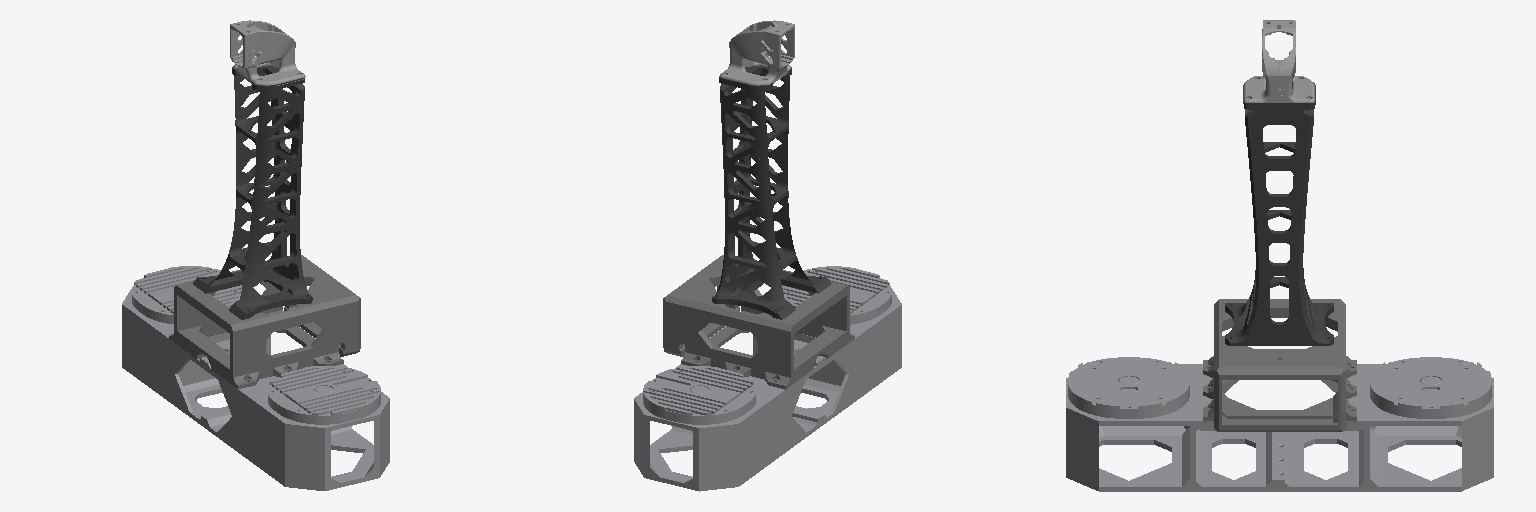
URDF robot description (urdf_xlerobot):
<?xml version="1.0" ?>
<!-- Generated using onshape-to-robot -->
<!-- Onshape https://cad.onshape.com/documents/96925cf817c1a878a85e838a/w/65e84f84222e56821484522f/e/8df6a6c93d54b1b95e807d87 -->
<robot name="urdf_xlerobot">
  <link name="base">
    <inertial>
      <origin xyz="0 0 0" rpy="0 0 0"/>
      <mass value="1e-09"/>
      <inertia ixx="1e-09" ixy="0" ixz="0" iyy="1e-09" iyz="0" izz="1e-09"/>
    </inertial>
  </link>
  <!-- Link 035armbase_step -->
  <link name="035armbase_step">
    <inertial>
      <origin xyz="0 0 0" rpy="0 0 0"/>
      <mass value="1e-09"/>
      <inertia ixx="1e-09" ixy="0" ixz="0" iyy="1e-09" iyz="0" izz="1e-09"/>
    </inertial>
    <!-- Part 035armbase_step -->
    <visual>
      <origin xyz="0.101856 -0.00509356 -0.665853" rpy="0 -0 0"/>
      <geometry>
        <mesh filename="package://assets/035armbase_step.stl"/>
      </geometry>
      <material name="035armbase_step_material">
        <color rgba="0.627451 0.627451 0.643137 1"/>
      </material>
    </visual>
    <collision>
      <origin xyz="0.101856 -0.00509356 -0.665853" rpy="0 -0 0"/>
      <geometry>
        <mesh filename="package://assets/035armbase_step.stl"/>
      </geometry>
    </collision>
    <!-- Part gimbal_base_step -->
    <visual>
      <origin xyz="0.103377 -0.00438476 -0.668057" rpy="0 -0 0"/>
      <geometry>
        <mesh filename="package://assets/gimbal_base_step.stl"/>
      </geometry>
      <material name="gimbal_base_step_material">
        <color rgba="0.627451 0.627451 0.627451 1"/>
      </material>
    </visual>
    <collision>
      <origin xyz="0.103377 -0.00438476 -0.668057" rpy="0 -0 0"/>
      <geometry>
        <mesh filename="package://assets/gimbal_base_step.stl"/>
      </geometry>
    </collision>
    <!-- Part xlerobot_0_2_9_3d_step -->
    <visual>
      <origin xyz="0.103187 -0.00463072 -0.665881" rpy="0 -0 0"/>
      <geometry>
        <mesh filename="package://assets/xlerobot_0_2_9_3d_step.stl"/>
      </geometry>
      <material name="xlerobot_0_2_9_3d_step_material">
        <color rgba="0.301961 0.301961 0.301961 1"/>
      </material>
    </visual>
    <collision>
      <origin xyz="0.103187 -0.00463072 -0.665881" rpy="0 -0 0"/>
      <geometry>
        <mesh filename="package://assets/xlerobot_0_2_9_3d_step.stl"/>
      </geometry>
    </collision>
    <!-- Part 035armbase_step_2 -->
    <visual>
      <origin xyz="0.101856 -0.00509356 -0.665853" rpy="0 -0 0"/>
      <geometry>
        <mesh filename="package://assets/035armbase_step__2.stl"/>
      </geometry>
      <material name="035armbase_step_2_material">
        <color rgba="0.627451 0.627451 0.643137 1"/>
      </material>
    </visual>
    <collision>
      <origin xyz="0.101856 -0.00509356 -0.665853" rpy="0 -0 0"/>
      <geometry>
        <mesh filename="package://assets/035armbase_step__2.stl"/>
      </geometry>
    </collision>
    <!-- Part 035armbase_step_3 -->
    <visual>
      <origin xyz="0.101856 -0.00519356 -0.665853" rpy="0 -0 0"/>
      <geometry>
        <mesh filename="package://assets/035armbase_step__3.stl"/>
      </geometry>
      <material name="035armbase_step_3_material">
        <color rgba="0.627451 0.627451 0.643137 1"/>
      </material>
    </visual>
    <collision>
      <origin xyz="0.101856 -0.00519356 -0.665853" rpy="0 -0 0"/>
      <geometry>
        <mesh filename="package://assets/035armbase_step__3.stl"/>
      </geometry>
    </collision>
    <!-- Part 035armbase_step_4 -->
    <visual>
      <origin xyz="0.101856 -0.00509356 -0.665853" rpy="0 -0 0"/>
      <geometry>
        <mesh filename="package://assets/035armbase_step__4.stl"/>
      </geometry>
      <material name="035armbase_step_4_material">
        <color rgba="0.627451 0.627451 0.643137 1"/>
      </material>
    </visual>
    <collision>
      <origin xyz="0.101856 -0.00509356 -0.665853" rpy="0 -0 0"/>
      <geometry>
        <mesh filename="package://assets/035armbase_step__4.stl"/>
      </geometry>
    </collision>
    <!-- Part xlerobot_0_2_9bas_step -->
    <visual>
      <origin xyz="0.101856 -0.00509356 -0.665853" rpy="0 -0 0"/>
      <geometry>
        <mesh filename="package://assets/xlerobot_0_2_9bas_step.stl"/>
      </geometry>
      <material name="xlerobot_0_2_9bas_step_material">
        <color rgba="0.494118 0.494118 0.494118 1"/>
      </material>
    </visual>
    <collision>
      <origin xyz="0.101856 -0.00509356 -0.665853" rpy="0 -0 0"/>
      <geometry>
        <mesh filename="package://assets/xlerobot_0_2_9bas_step.stl"/>
      </geometry>
    </collision>
  </link>
  <link name="so107_right_base">
    <inertial>
      <origin xyz="0 0 0" rpy="0 0 0"/>
      <mass value="1e-09"/>
      <inertia ixx="1e-09" ixy="0" ixz="0" iyy="1e-09" iyz="0" izz="1e-09"/>
    </inertial>
  </link>
  <link name="so107_left_base">
    <inertial>
      <origin xyz="0 0 0" rpy="0 0 0"/>
      <mass value="1e-09"/>
      <inertia ixx="1e-09" ixy="0" ixz="0" iyy="1e-09" iyz="0" izz="1e-09"/>
    </inertial>
  </link>
  <joint name="base_fixed" type="fixed">
    <origin xyz="0.0 0.0 0.0" rpy="0 0 3.14159" />
    <parent link="base" />
    <child link="035armbase_step" />
  </joint>
  <joint name="so107_left" type="fixed">
    <origin xyz="0.0253929 -0.136894 0.0803879" rpy="0 0 3.14159"/>
    <parent link="035armbase_step" />
    <child link="so107_left_base" />
  </joint>
  <joint name="so107_right" type="fixed">
    <origin xyz="0.0253929 0.136206 0.0803879" rpy="0 0 3.14159"/>
    <parent link="035armbase_step" />
    <child link="so107_right_base" />
  </joint> 
</robot>

--- Render facts (derived) ---
3 views of the same robot in one strip: view 1: azimuth 30°, elevation 25°; view 2: azimuth 150°, elevation 25°; view 3: azimuth 270°, elevation 25° (orthographic).
Model urdf_xlerobot with 4 links and 3 joints (3 fixed), rooted at base, posed every joint at zero.
Links seen in each view (by area): view 1: 035armbase_step; view 2: 035armbase_step; view 3: 035armbase_step.
Boxes of the visible links, bbox=[...] form: 035armbase_step: bbox=[122, 20, 389, 490]; 035armbase_step: bbox=[634, 20, 901, 491]; 035armbase_step: bbox=[1066, 20, 1493, 491].
Bounding box of the posed robot: 0.1505 × 0.3863 × 0.4352 m (x, y, z).
7 mesh visuals loaded from 7 distinct referenced files (7 binary STL).
